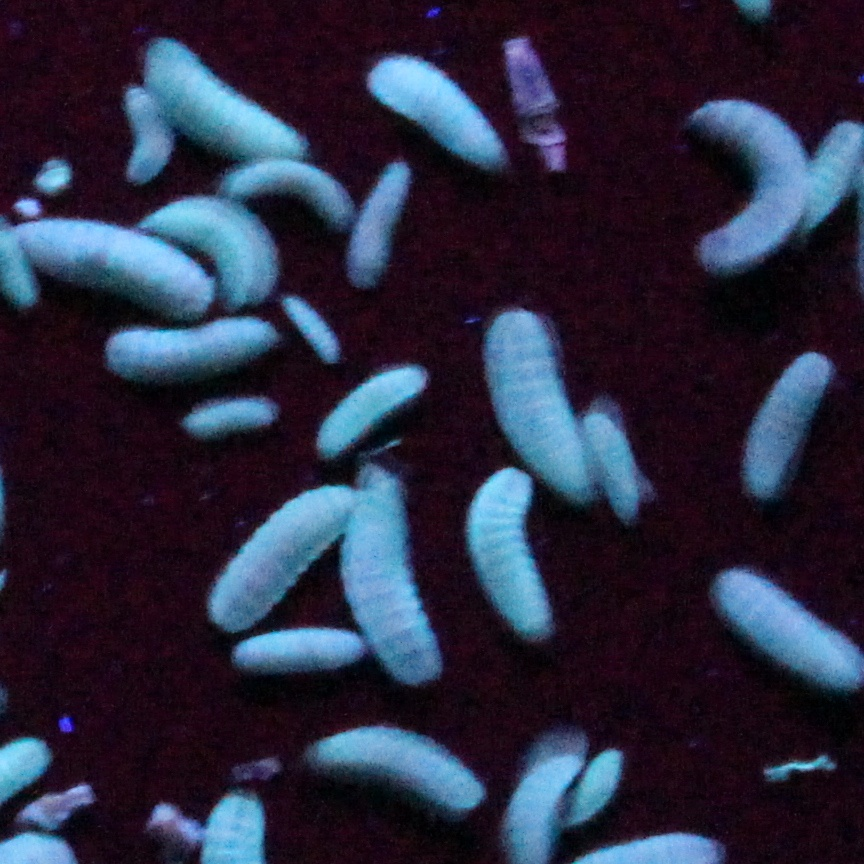larve: (344, 463, 444, 688), (215, 476, 366, 620), (477, 307, 587, 502), (156, 25, 305, 153), (698, 98, 805, 276), (368, 40, 517, 163), (31, 209, 205, 312), (153, 189, 287, 294), (326, 716, 475, 804), (318, 361, 442, 462), (473, 468, 540, 638), (105, 319, 287, 376), (351, 158, 435, 273), (753, 351, 815, 503), (569, 394, 644, 518), (225, 142, 346, 215), (221, 626, 365, 680), (564, 739, 629, 825), (274, 287, 337, 365), (122, 81, 165, 174), (187, 400, 276, 440)
